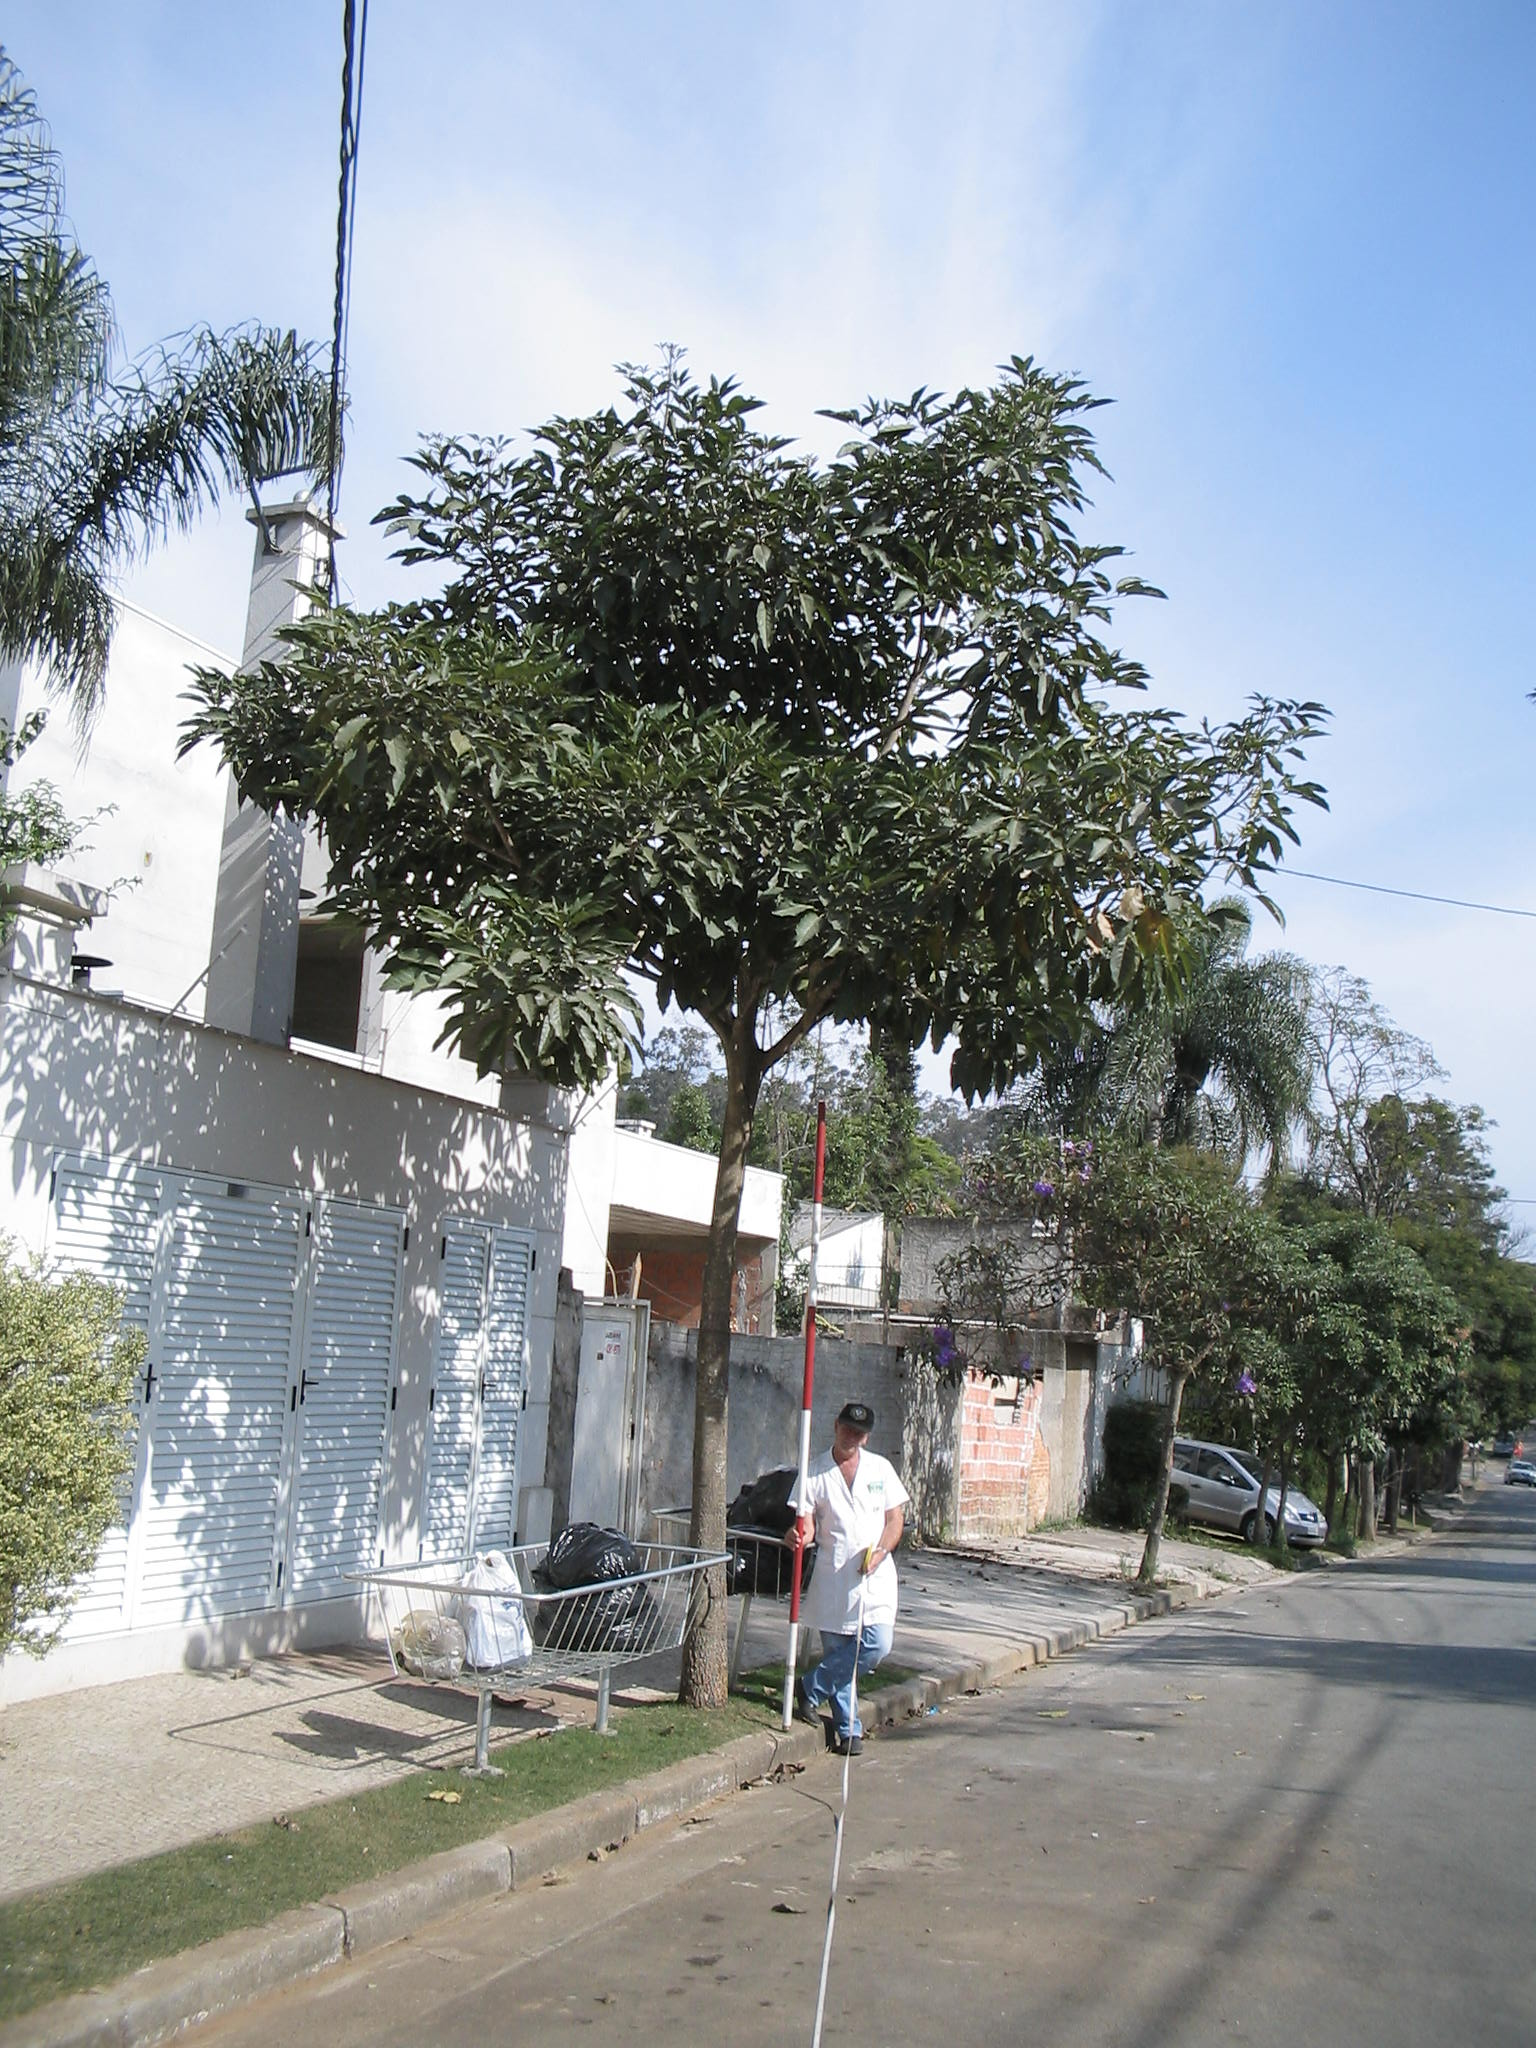crown: (174, 340, 1325, 1155)
stem: (649, 1082, 774, 1703)
stick: (757, 1103, 870, 1730)
tree: (165, 337, 1333, 1711), (979, 1163, 1321, 1584)
